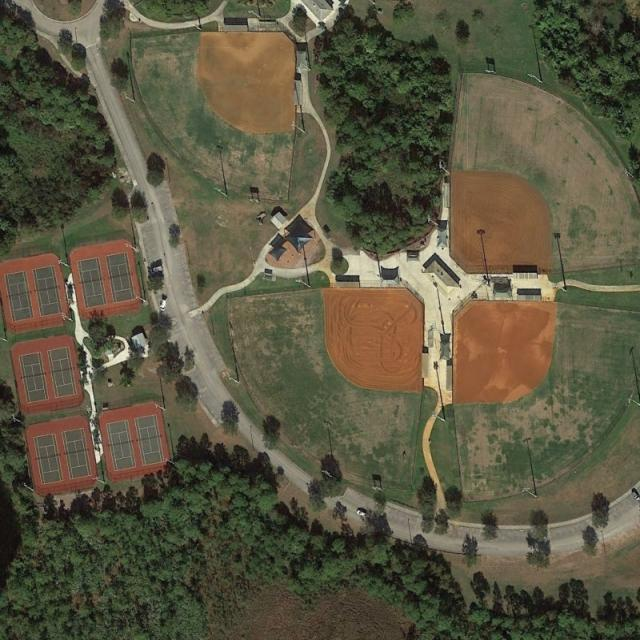vehicle: (630, 482, 640, 495), (148, 262, 164, 270), (354, 501, 366, 510), (158, 294, 166, 306)
